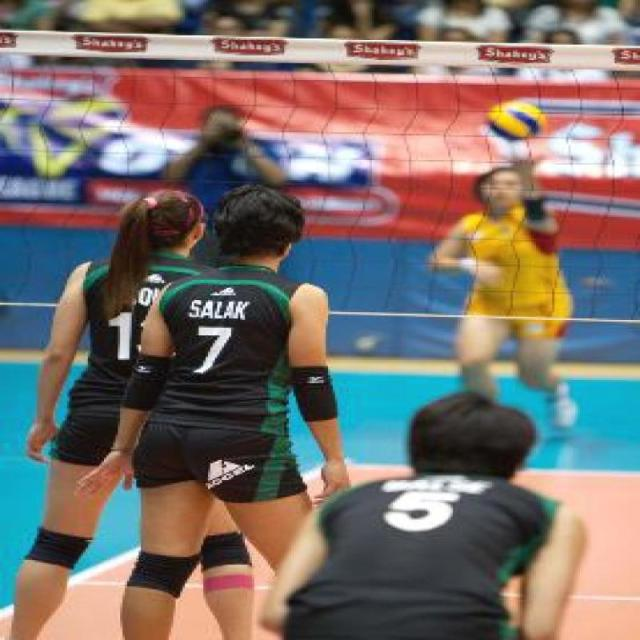volleyball: (485, 98, 548, 142)
